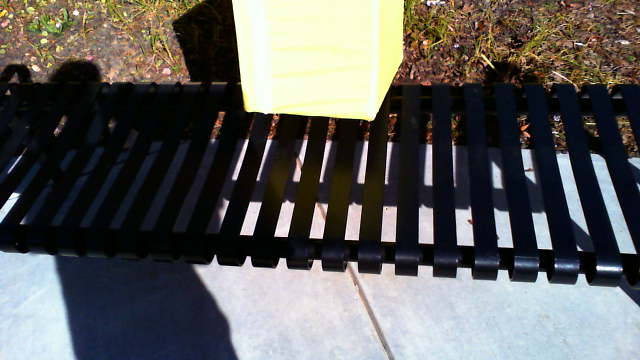cube: (231, 1, 405, 122)
